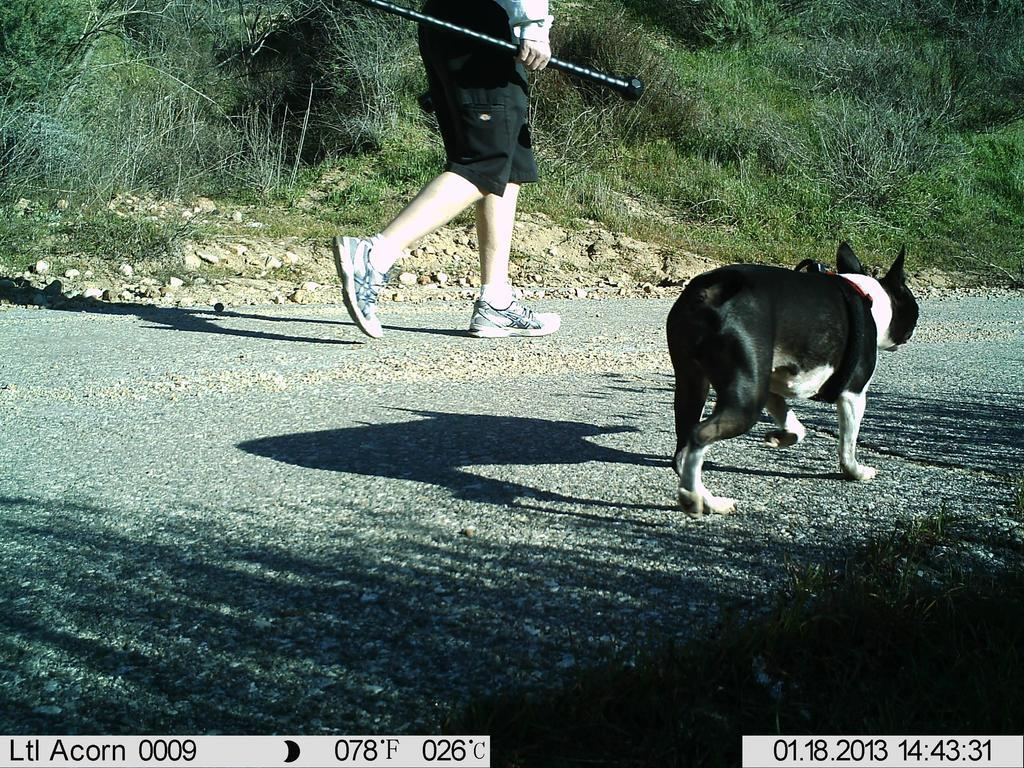dog: (663, 239, 929, 523)
